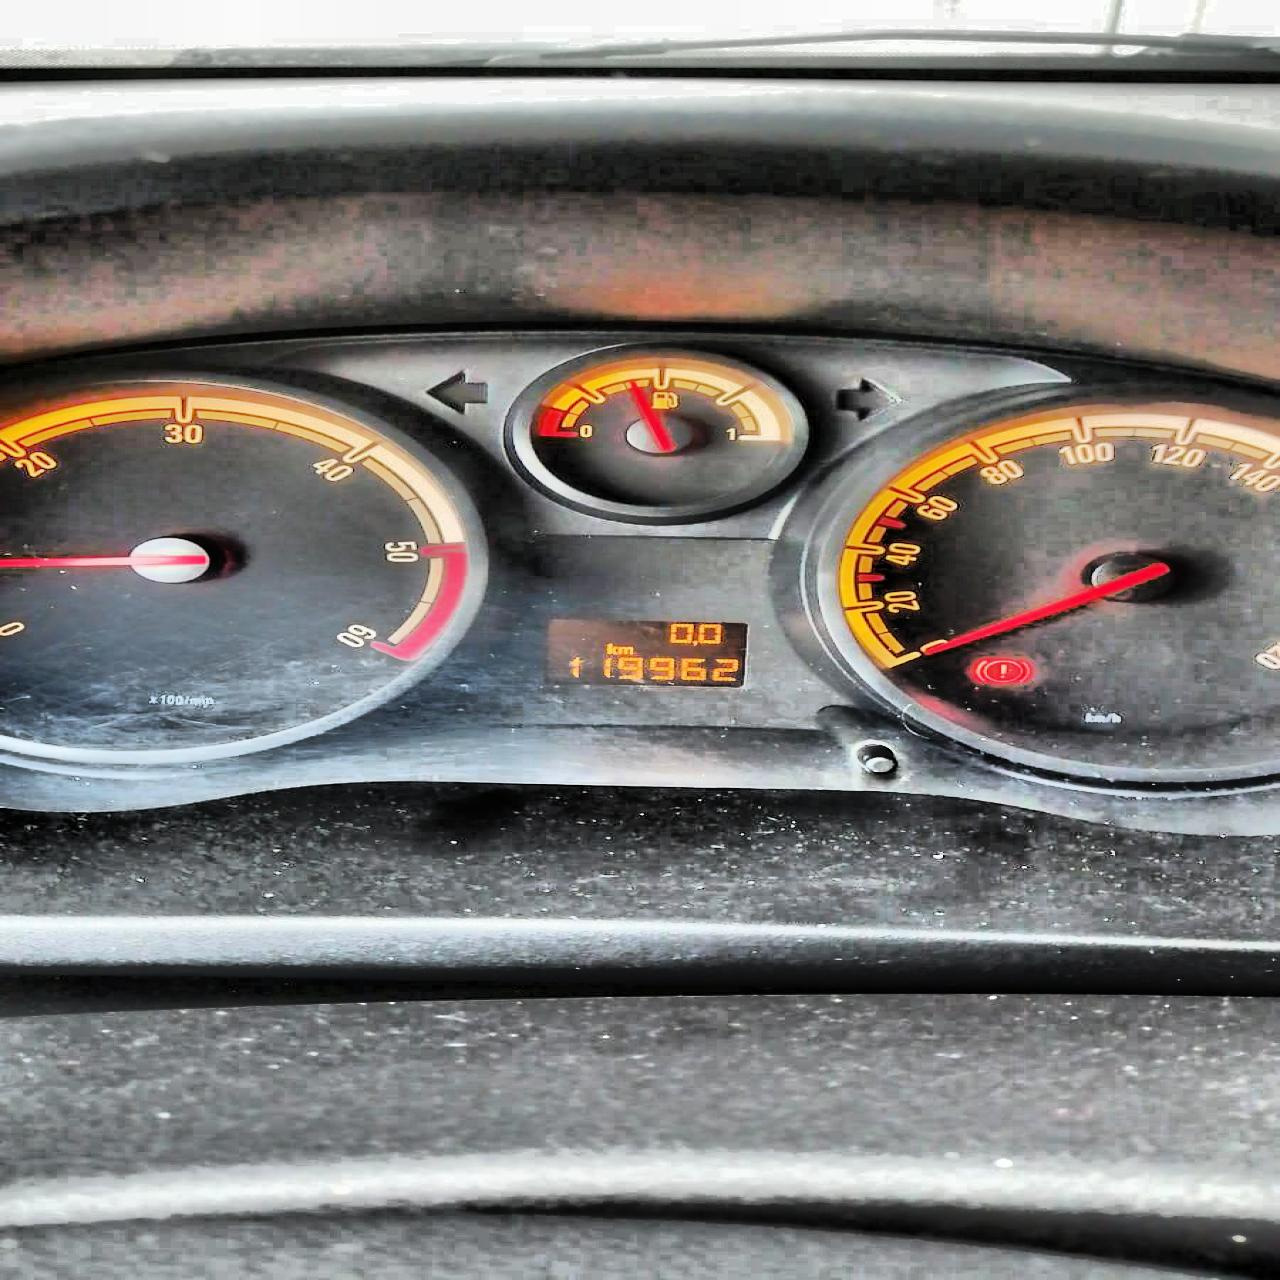-: (690, 640, 697, 646)
0: (668, 622, 694, 642), (697, 622, 721, 644)
1: (600, 656, 612, 679), (571, 656, 580, 678)
2: (710, 658, 738, 680)
6: (680, 658, 706, 680)
9: (617, 655, 644, 679), (647, 658, 674, 679)
X: (605, 642, 618, 654), (617, 646, 633, 654)
odometer: (539, 617, 750, 689)
